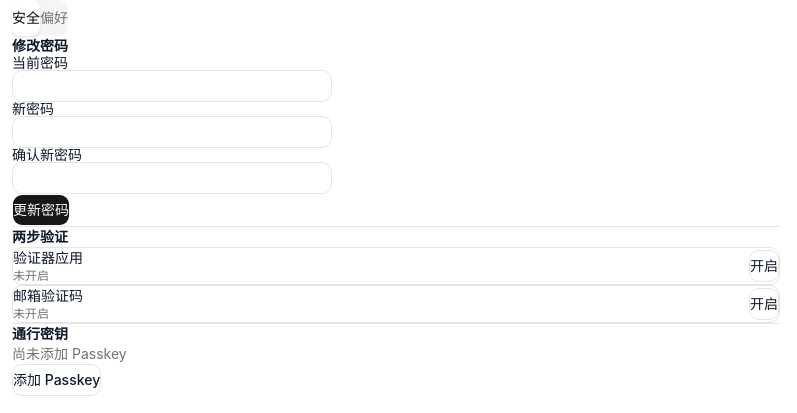
Test case: 设置页 › 偏好设置语言先选后存：未保存不写回，保存后统一写回并即时生效
The image size is (797, 413).
Click the tab "偏好" at (54, 18), box [40,9,68,26]
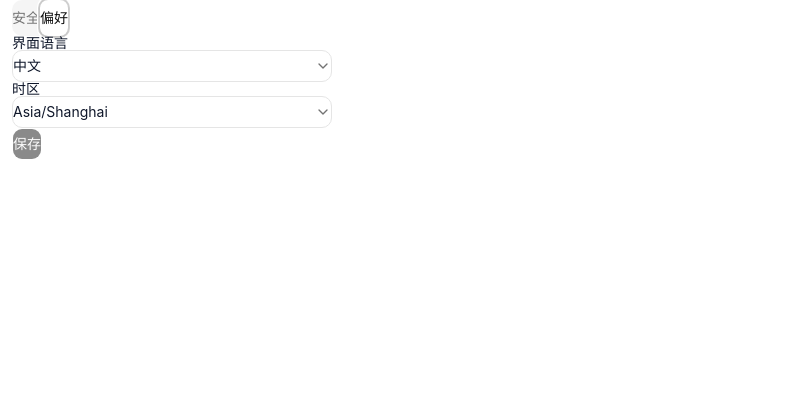
Now the button "保存" is disabled, box [12,128,42,160]
Click the dropdown named "界面语言" at (27, 66), box [12,50,332,82]
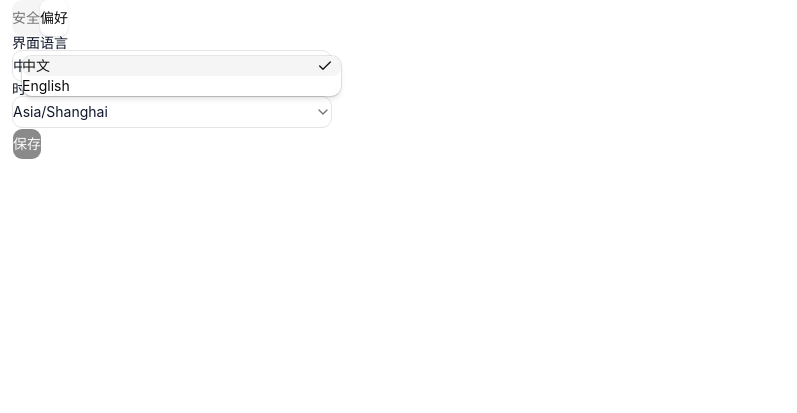
Click the option "English" at (46, 86), box [22,77,70,94]
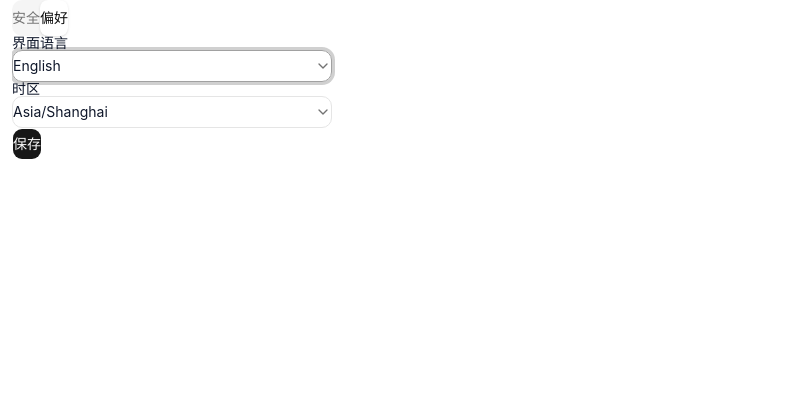
Now the button "保存" is enabled
Click the button "保存" at (27, 144), box [12,128,42,160]
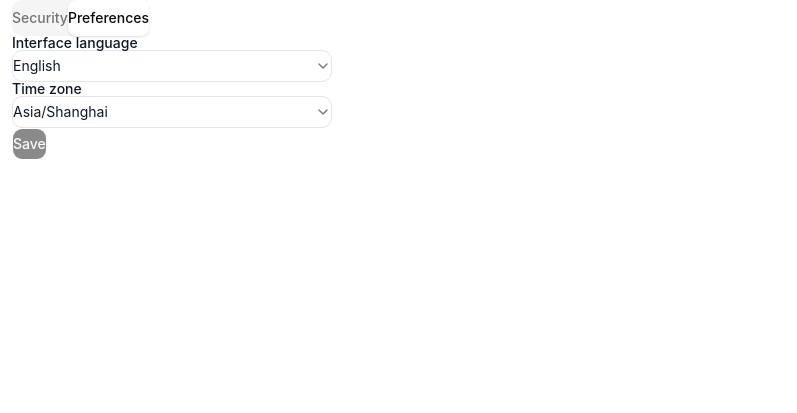
Now the button named "保存" is disabled, box [12,128,47,160]
